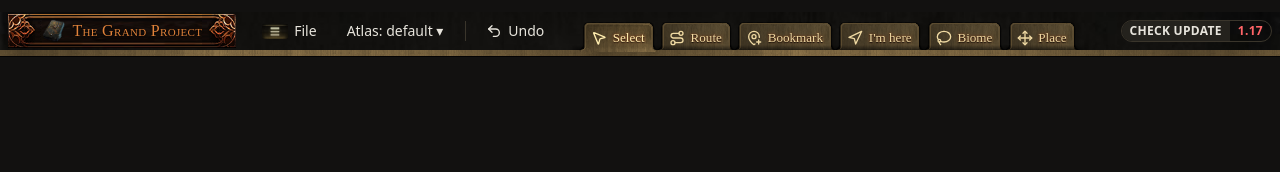
Test: TopBar › no map mode while the timelapse is open: opening it ends one, and Route can't start in it
Later steps or results of the test are not shown.
Step 1. Click the button "Route" → [695, 37], box x1=656 y1=22 x2=735 y2=52
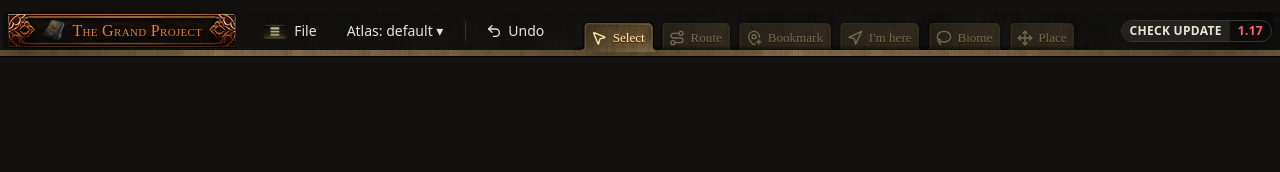
Now the button "Route" is disabled, box x1=656 y1=22 x2=735 y2=52
